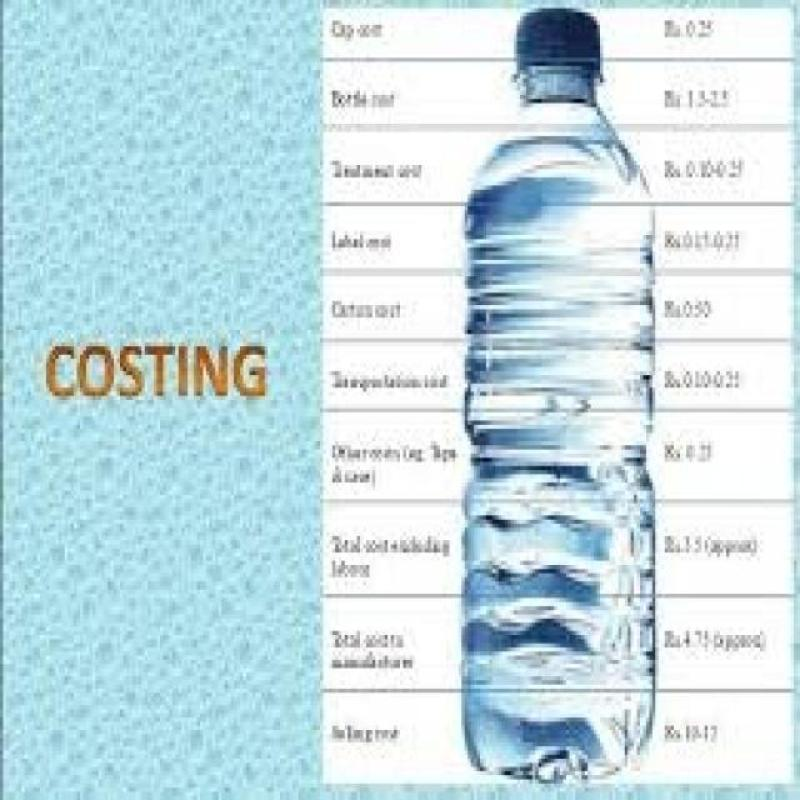botella: (459, 8, 659, 792)
